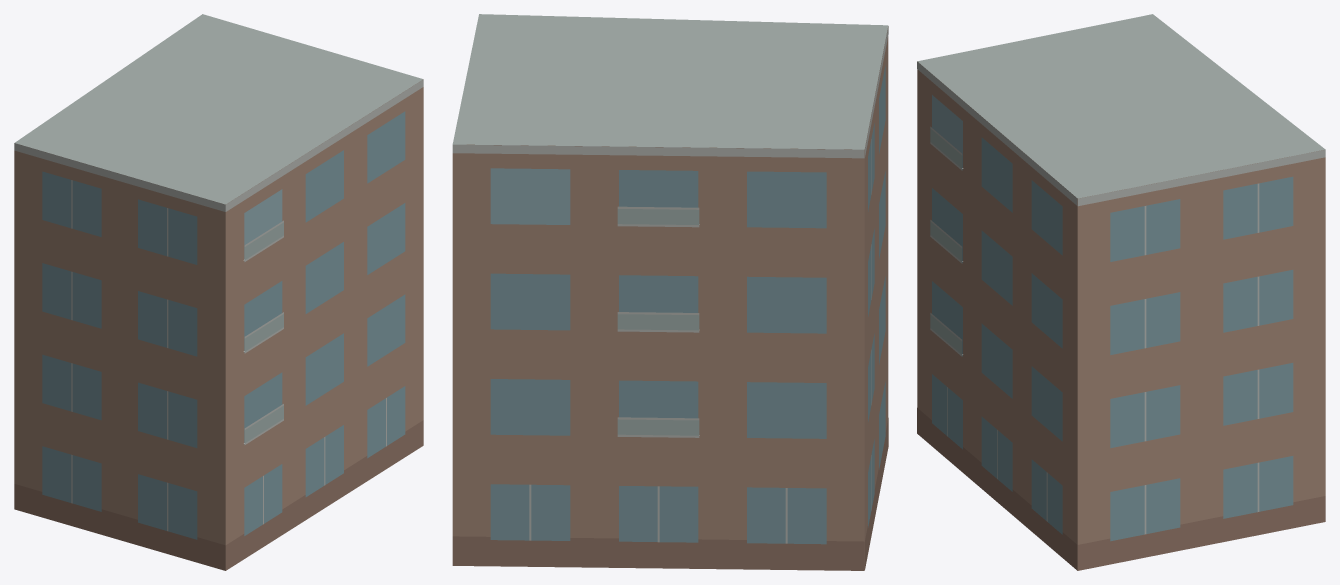
The model's file is survey-upis-32690958.glb.
3 renders of one model, left to right at view 1: azimuth 30°, elevation 25°; view 2: azimuth 150°, elevation 25°; view 3: azimuth 270°, elevation 25°, orthographic. The views are drawn at different scales.
Visible parts, largest first — view 1: survey-upis-32690958.tmp; view 2: survey-upis-32690958.tmp; view 3: survey-upis-32690958.tmp.
Part boxes in pixels (<box>): survey-upis-32690958.tmp: <box>14,14,423,570</box>; survey-upis-32690958.tmp: <box>452,14,888,570</box>; survey-upis-32690958.tmp: <box>917,14,1325,570</box>.
Size of the model in its own units: 12.56 by 11.8 by 11.75.
